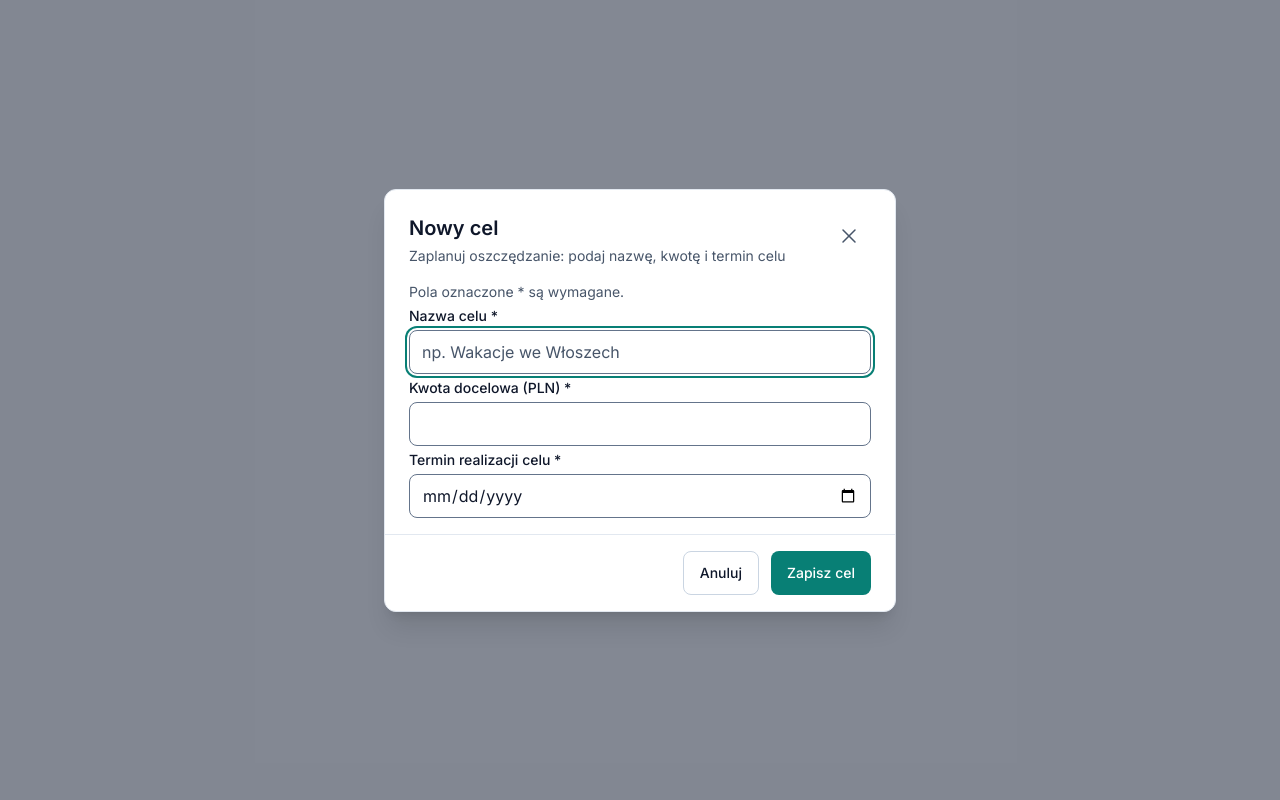
Test: NewGoalDialog › sends nothing, shows the three messages and focuses the name when the form is empty
Click the button "Zapisz cel" at (821,572), box [771,550,871,594]
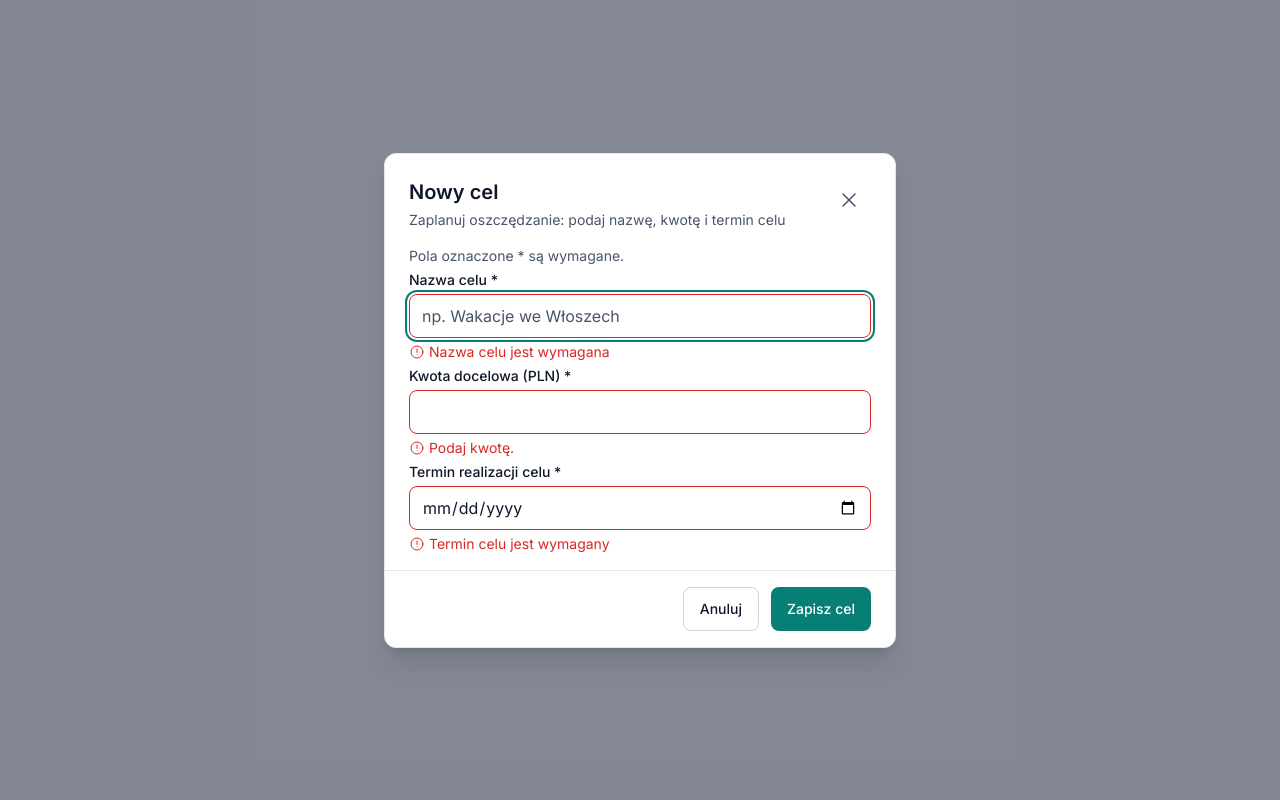
Expected: the messages read "Nazwa celu jest wymagana", "Podaj kwotę.", "Termin celu jest wymagany", in this order, [409,342,610,360]; [409,438,514,456]; [409,534,610,552]
